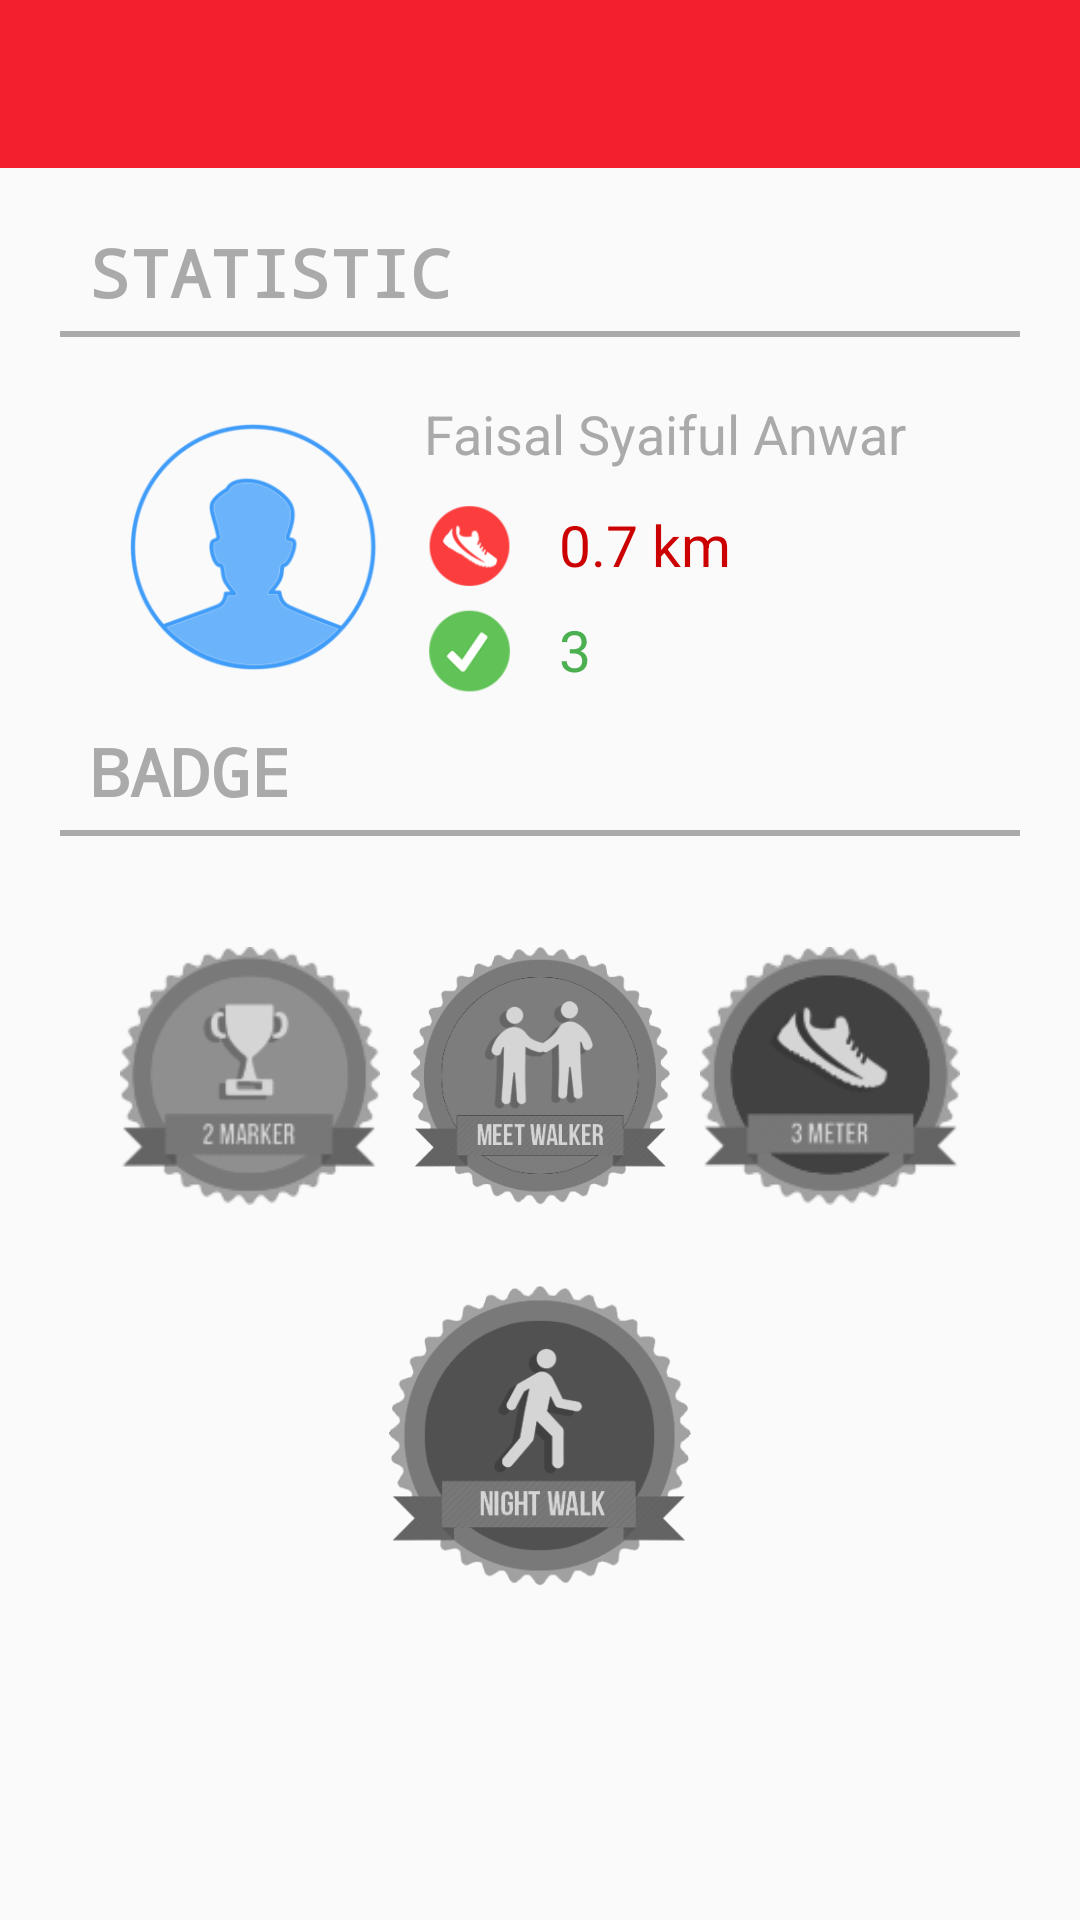

Icons on this 1080×1920 Android screen, each with its box as (x1, y1, x2, y2):
ceklis: (429, 610, 510, 692)
orang: (130, 424, 376, 670)
